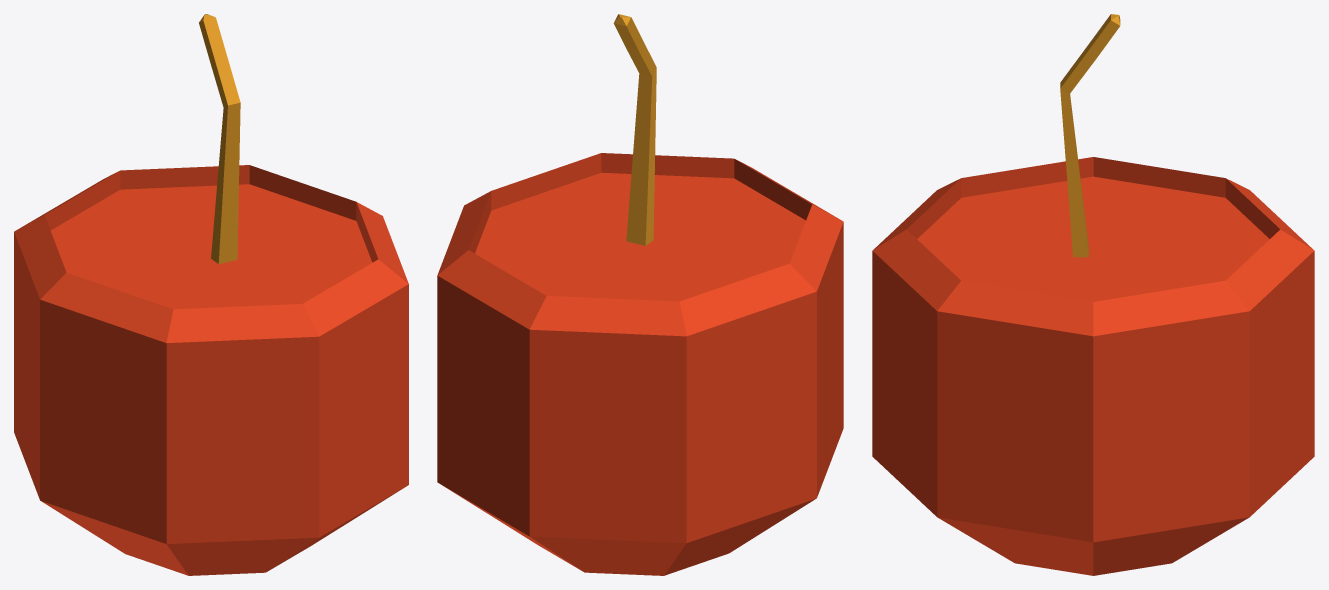
File: apel.glb
3 renders of one model, left to right at view 1: azimuth 30°, elevation 25°; view 2: azimuth 150°, elevation 25°; view 3: azimuth 270°, elevation 25°, orthographic. The views are drawn at different scales.
Visible parts, largest first — view 1: Apel.001; view 2: Apel.001; view 3: Apel.001.
Part boxes in pixels (box(x1,y1,x2,y2)): Apel.001: box(14, 14, 408, 575); Apel.001: box(437, 14, 843, 575); Apel.001: box(872, 14, 1314, 575).
Size of the model in its own units: 1.94 by 2.75 by 2.11.
